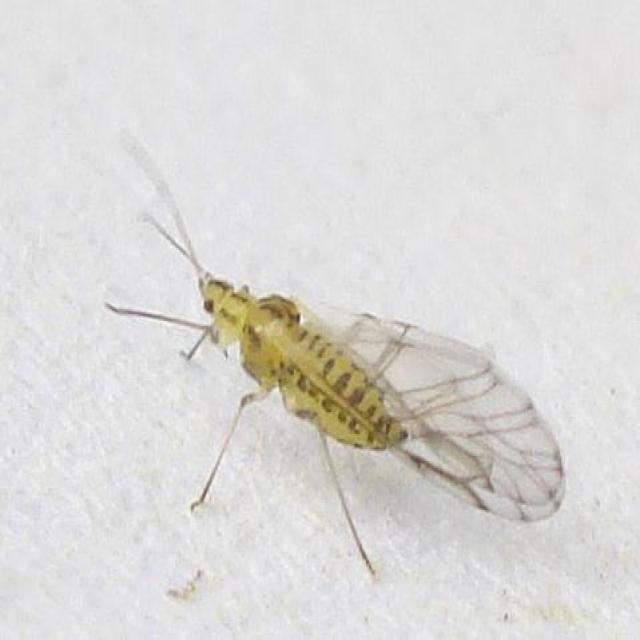Aphids: (65, 165, 596, 611)
